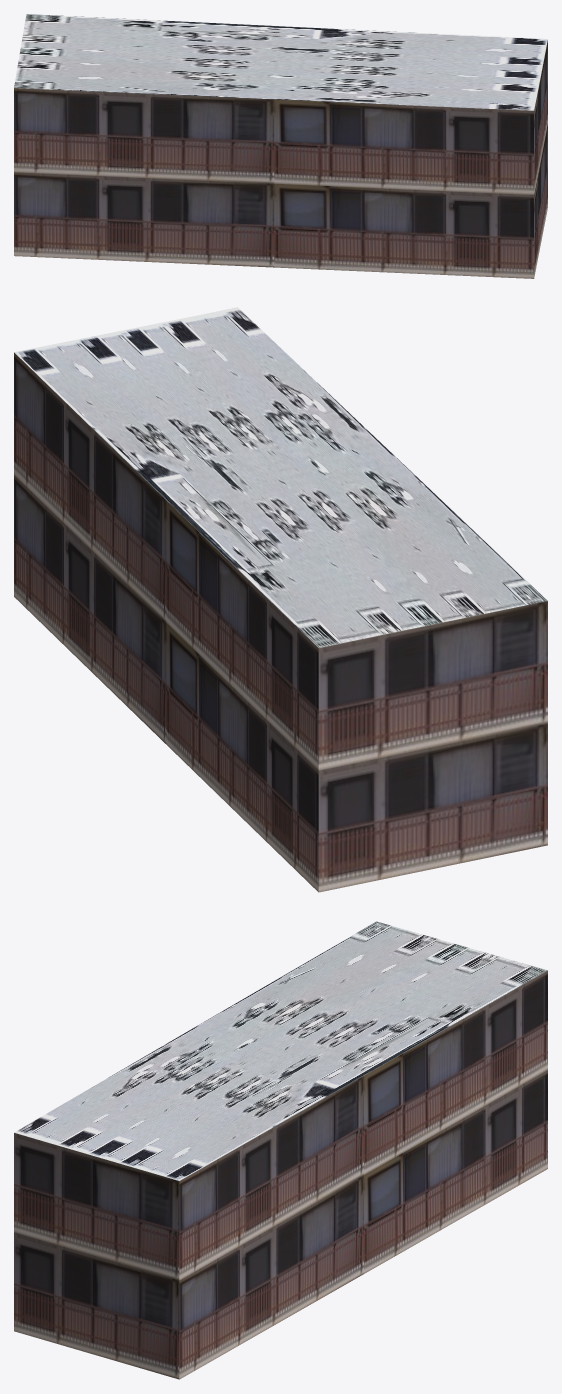
File: ResTex__556.fbx
3 renders of one model, top to bottom at view 1: azimuth 30°, elevation 25°; view 2: azimuth 150°, elevation 25°; view 3: azimuth 270°, elevation 25°, orthographic. The views are drawn at different scales.
Visible parts, largest first — view 1: CityEngineMaterial_6_m, CityEngineMaterial_m; view 2: CityEngineMaterial_6_m, CityEngineMaterial_m; view 3: CityEngineMaterial_6_m, CityEngineMaterial_m.
Part boxes in pixels (left/top/right/bottom): CityEngineMaterial_6_m: left=14, top=40, right=547, bottom=278; CityEngineMaterial_m: left=14, top=14, right=547, bottom=110; CityEngineMaterial_6_m: left=14, top=352, right=547, bottom=892; CityEngineMaterial_m: left=14, top=307, right=547, bottom=647; CityEngineMaterial_6_m: left=14, top=970, right=547, bottom=1379; CityEngineMaterial_m: left=14, top=921, right=547, bottom=1180.
Size of the model in its own units: 16.83 by 6 by 14.62.
2 materials, 2 textured.
